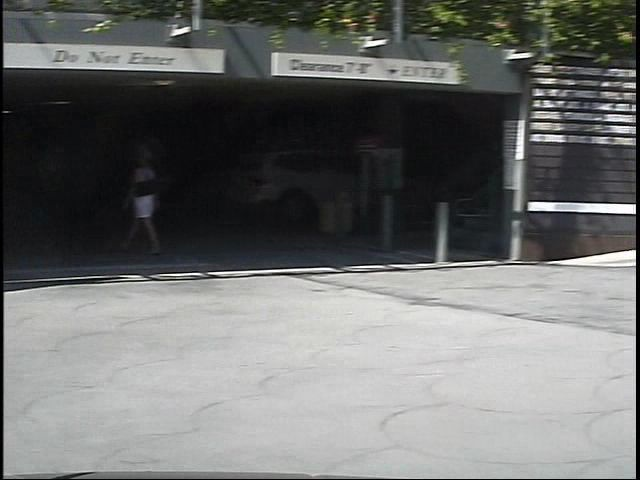person: (105, 148, 155, 269)
